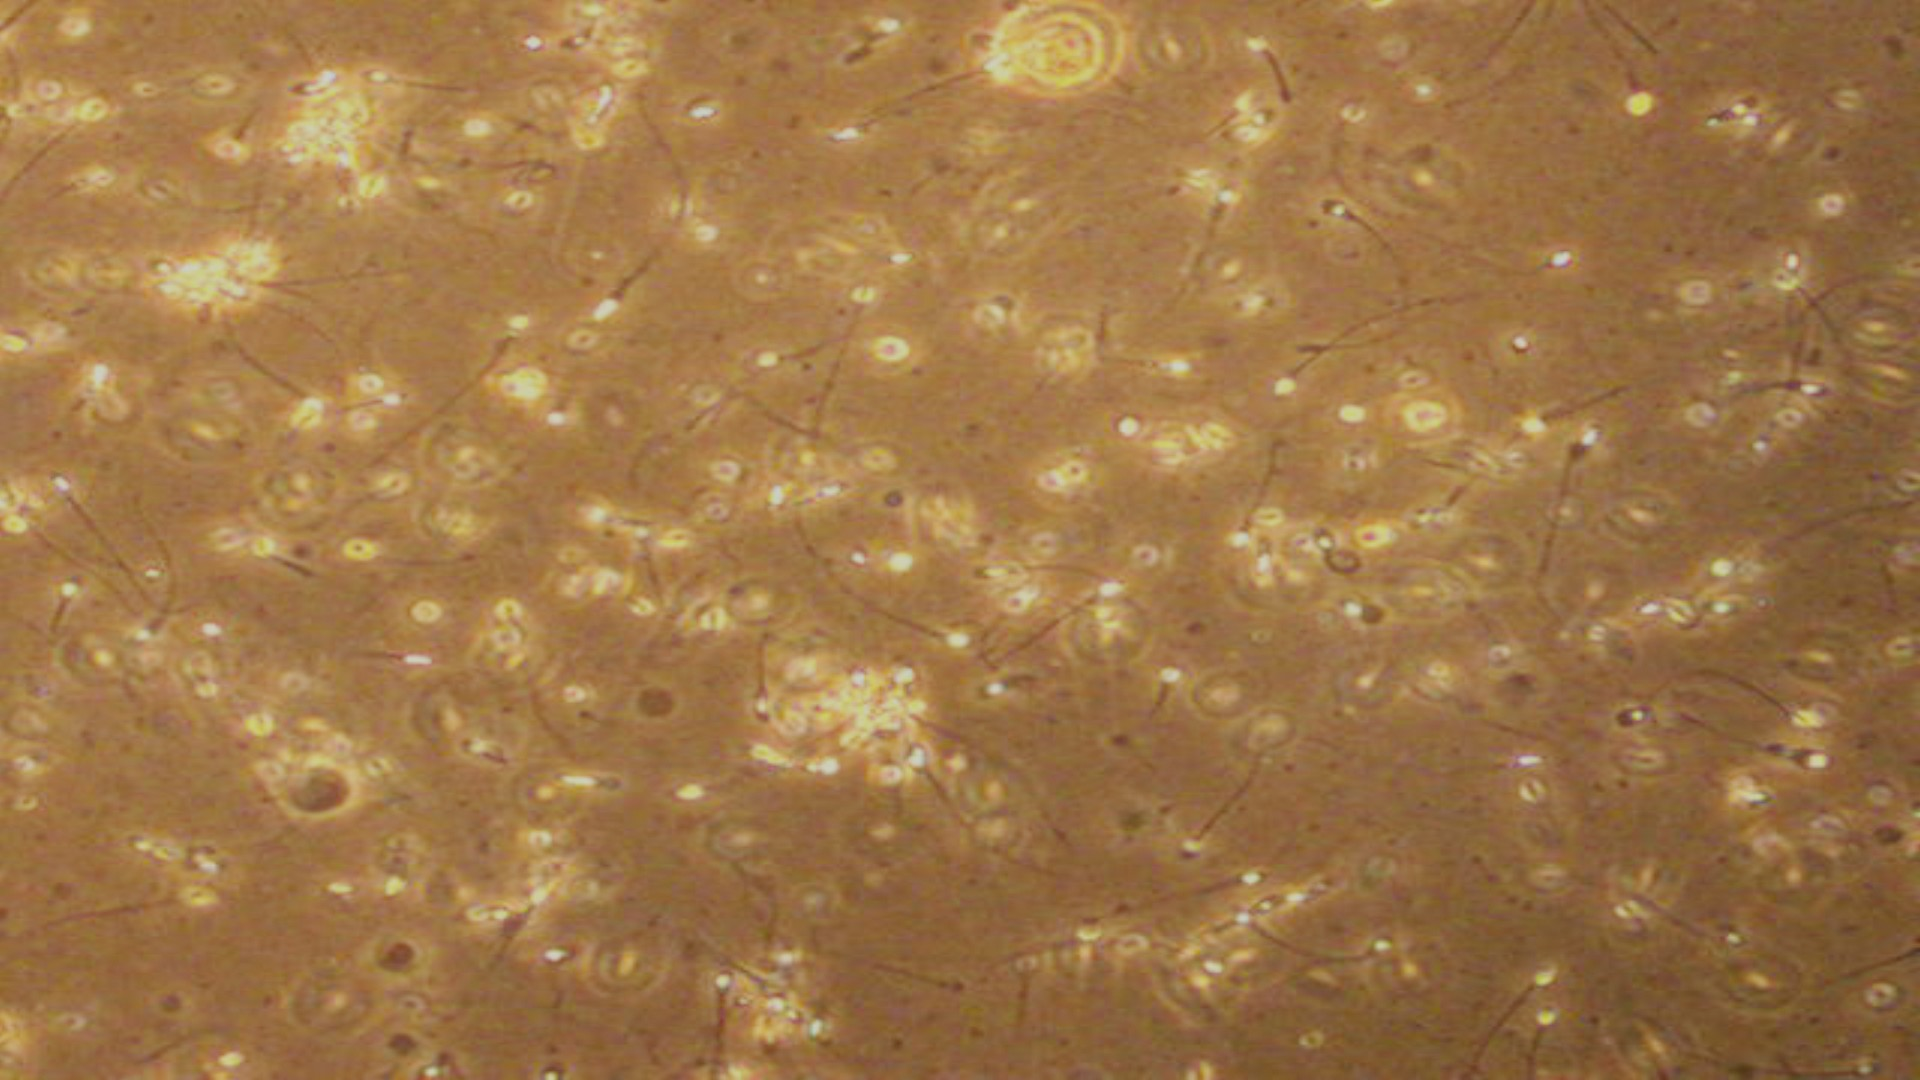sperm: (1203, 423, 1356, 578), (1261, 318, 1425, 450), (1313, 182, 1449, 302), (54, 464, 154, 596), (570, 232, 690, 342), (49, 563, 170, 659), (1499, 345, 1625, 429), (692, 957, 774, 1079), (1240, 24, 1336, 127), (820, 15, 924, 102), (964, 556, 1156, 603), (117, 545, 196, 657), (728, 323, 851, 386), (313, 624, 435, 684), (740, 636, 811, 738), (1143, 870, 1288, 920), (1482, 961, 1564, 1046), (1718, 359, 1834, 414), (1164, 778, 1245, 857), (820, 94, 943, 145), (1443, 738, 1545, 796), (1563, 413, 1625, 500), (364, 61, 469, 111), (1688, 91, 1775, 149), (1506, 1009, 1575, 1077), (332, 384, 427, 429), (535, 938, 617, 977)
